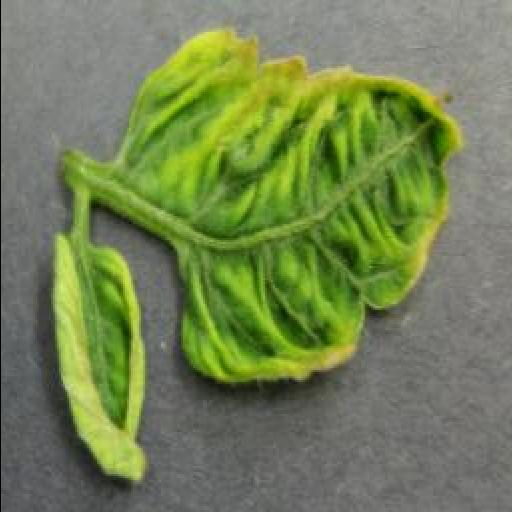disease_tomato: (116, 32, 468, 382), (48, 232, 146, 490)
